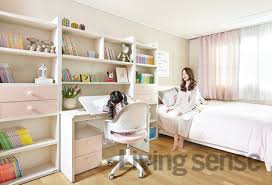Bed: (156, 84, 272, 172)
Chair: (103, 102, 154, 180)
